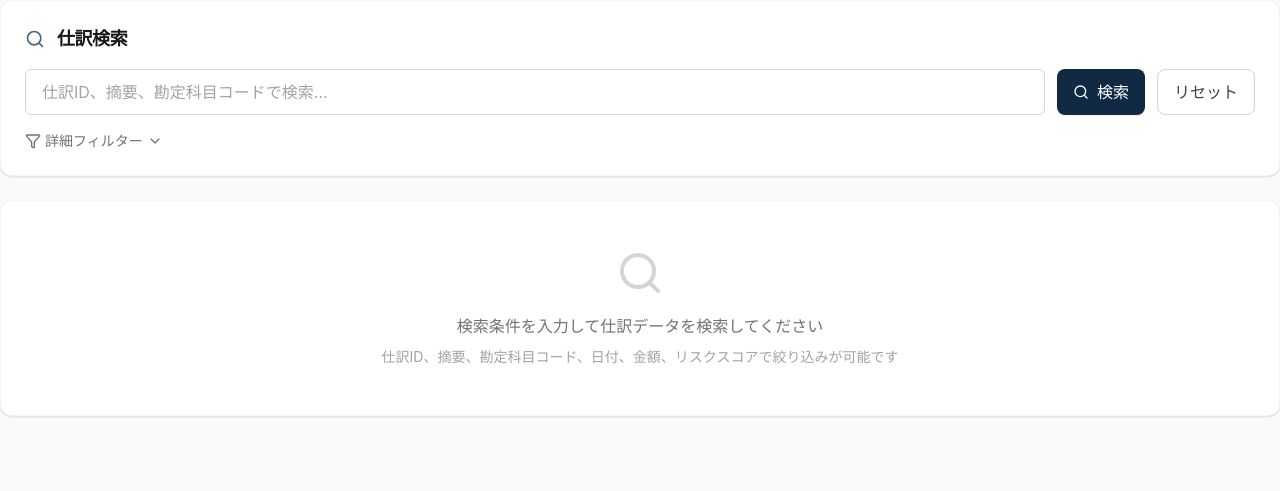
SearchPage › resets filters on reset button click
In the field with placeholder "仕訳ID、摘要、勘定科目コードで検索...": coordinates (535, 92) [25,69,1045,115], type "test"
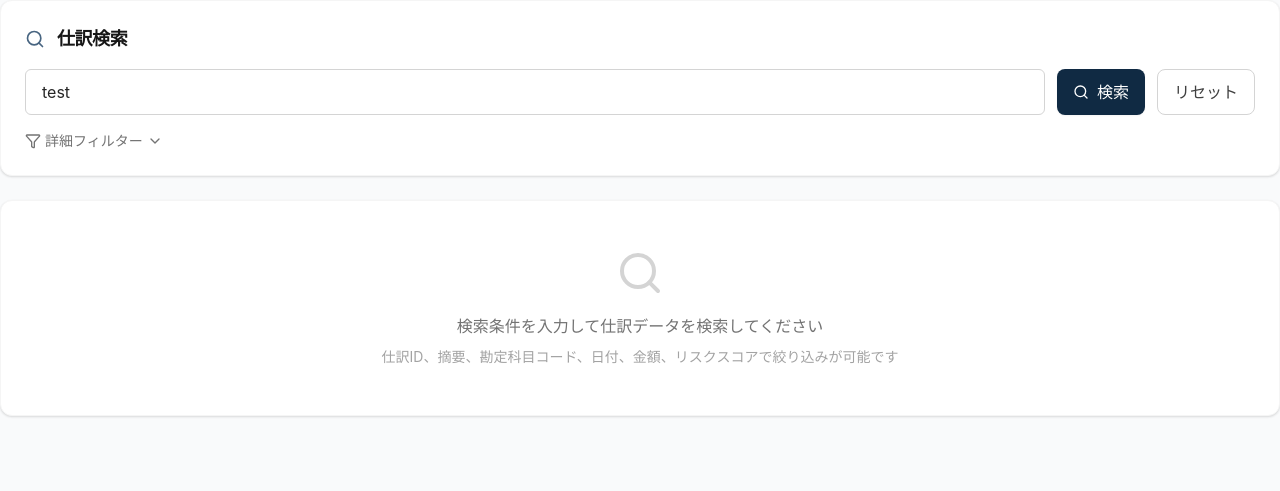
Submit the form with placeholder "仕訳ID、摘要、勘定科目コードで検索...", box [0,0,1279,176]
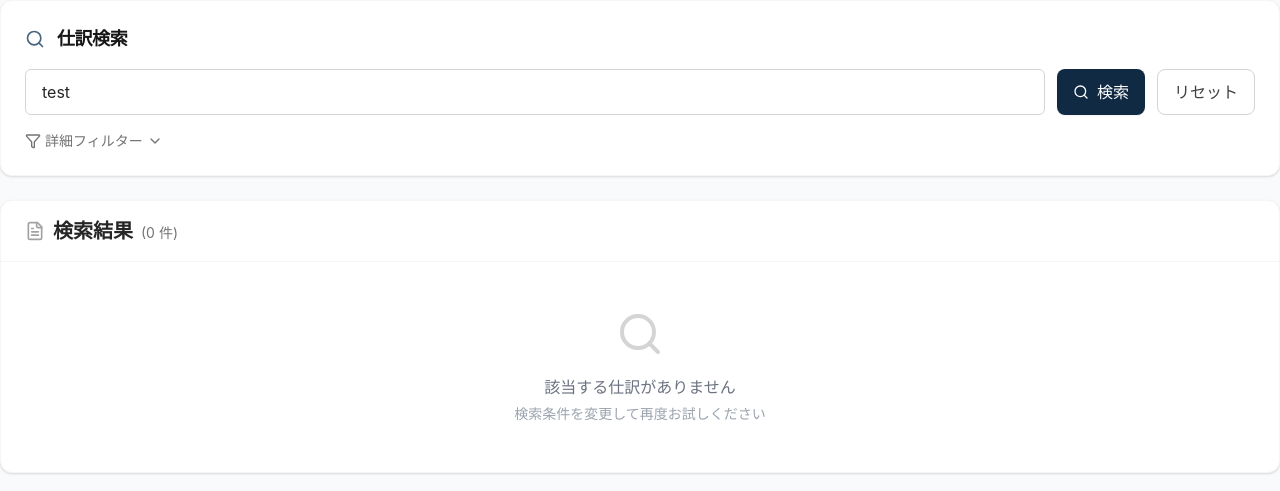
Expected: the text "該当する仕訳がありません" is shown, [544,377,736,397]
Click the button "リセット": coordinates (1206, 92) [1157,69,1255,115]
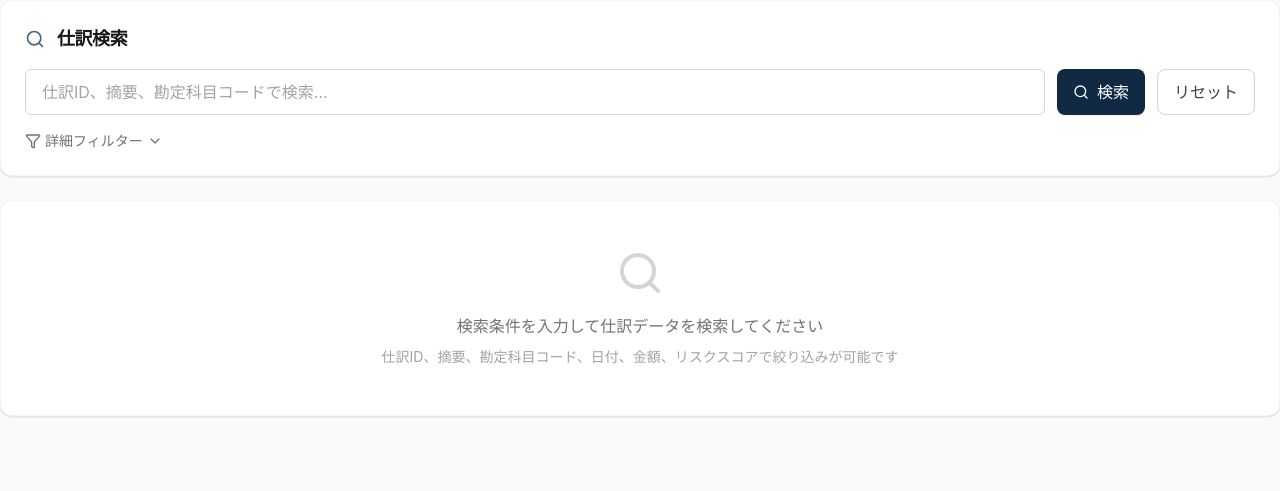
Expected: the text "検索条件を入力して仕訳データを検索してください" is shown, [457,316,823,336]
